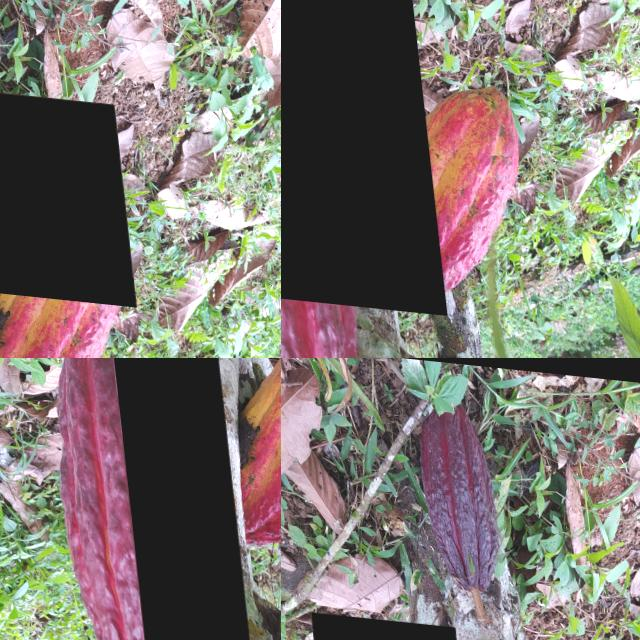Monilia: (103, 358, 238, 640), (0, 63, 128, 297)
Sana: (281, 0, 435, 308), (413, 395, 501, 586)
